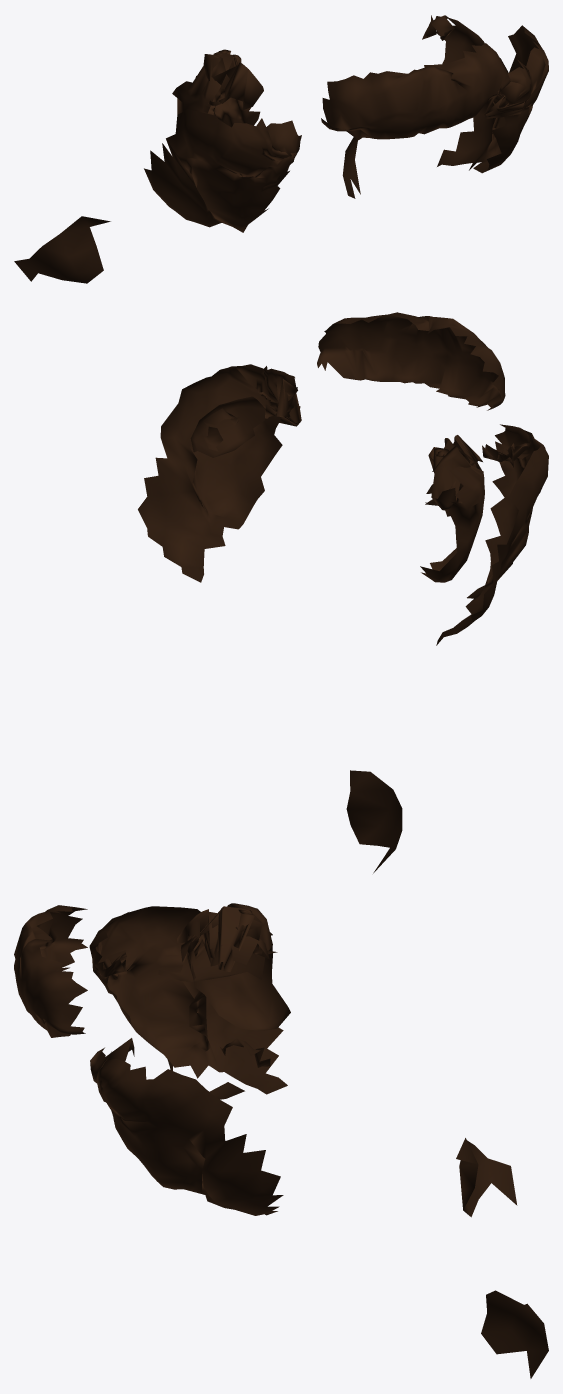
Rendered from kopf.bart.hufeisen.glb.
3 renders of one model, top to bottom at view 1: azimuth 30°, elevation 25°; view 2: azimuth 150°, elevation 25°; view 3: azimuth 270°, elevation 25°, orthographic. The views are drawn at different scales.
Visible parts, largest first — view 1: bart; view 2: bart; view 3: bart.
Part boxes in pixels (<box>): bart: <box>14,15,548,283</box>; bart: <box>138,312,548,873</box>; bart: <box>14,903,548,1378</box>.
Bounding box in the file's own units: 0.0861 × 0.0767 × 0.1024.
